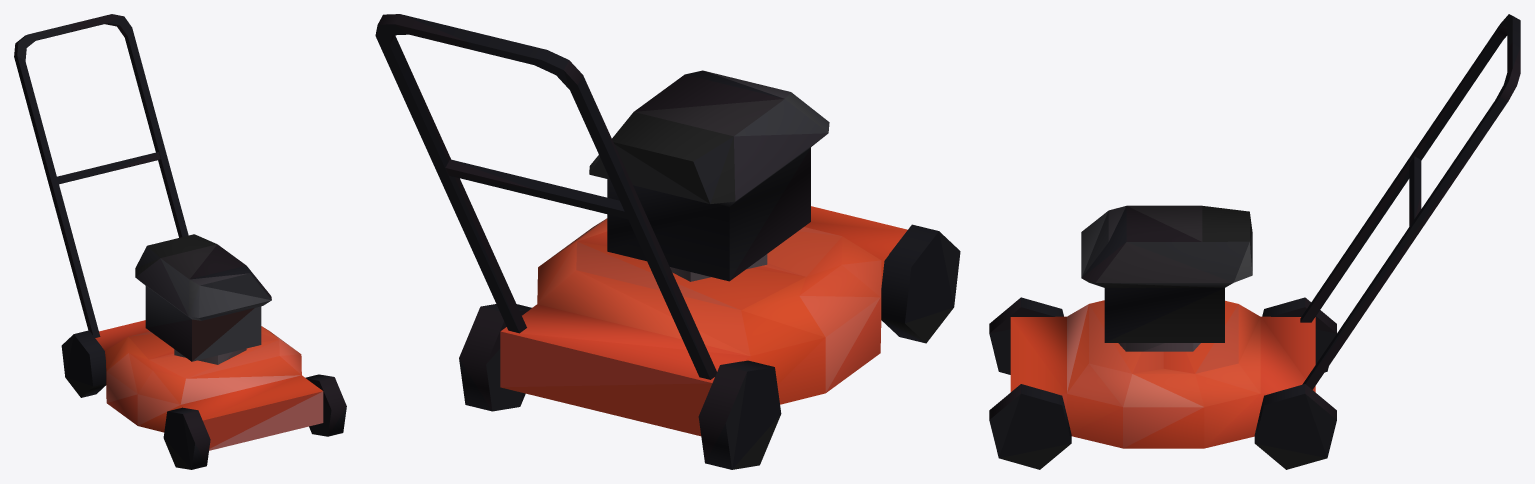
Rendered from hs_mower.glb.
3 views of the same model, side by side, from view 1: azimuth 30°, elevation 25°; view 2: azimuth 150°, elevation 25°; view 3: azimuth 270°, elevation 25° (orthographic). The views are drawn at different scales.
Visible parts, largest first — view 1: Mower; view 2: Mower; view 3: Mower.
Part boxes in pixels (<box>): Mower: <box>14,14,346,469</box>; Mower: <box>375,14,960,469</box>; Mower: <box>989,14,1520,469</box>.
Bounding box in the file's own units: 0.6673 × 1.14 × 1.44.
